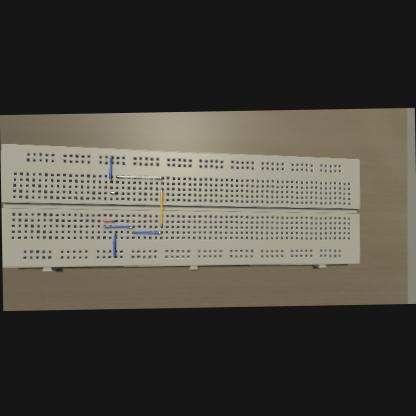breadboard: (0, 135, 360, 271)
wire: (115, 172, 162, 178), (158, 186, 162, 226), (132, 229, 162, 233), (108, 154, 112, 180), (102, 224, 133, 227), (112, 230, 115, 256), (108, 190, 116, 192), (102, 218, 116, 219)
